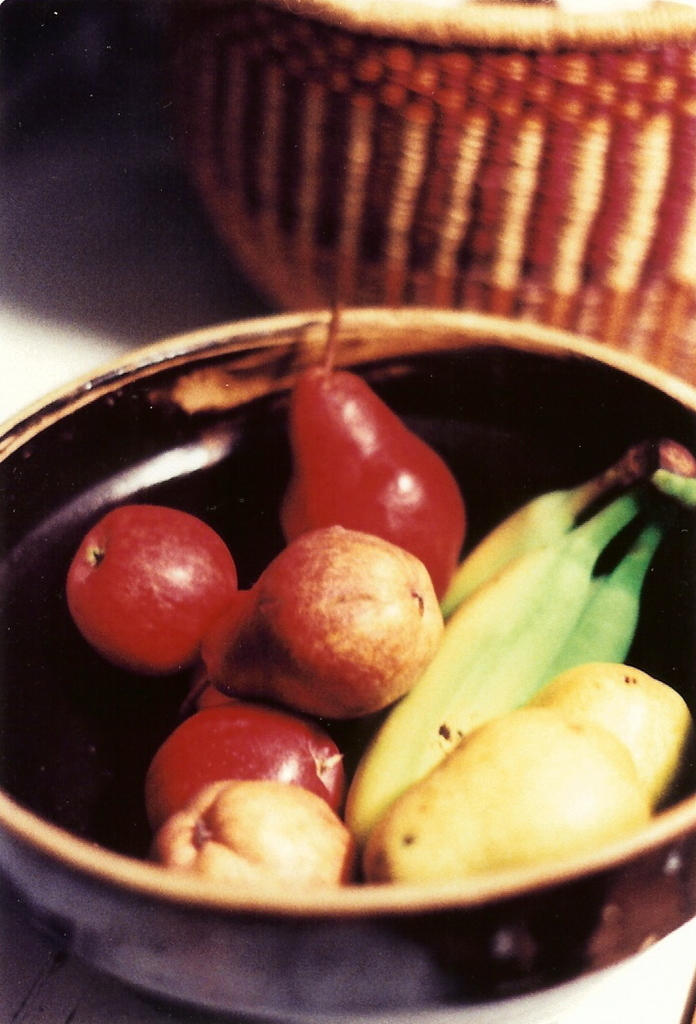Apple: (60, 503, 238, 685), (148, 706, 347, 830), (152, 778, 363, 888)
